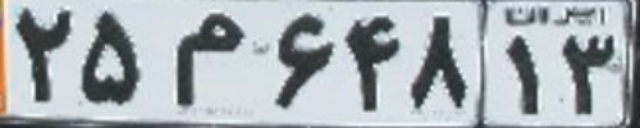1: (504, 33, 540, 114)
2: (13, 9, 71, 103)
3: (561, 34, 615, 115)
4: (345, 15, 400, 111)
5: (84, 9, 138, 101)
6: (274, 12, 332, 109)
8: (410, 16, 466, 109)
mim: (173, 11, 245, 106)
